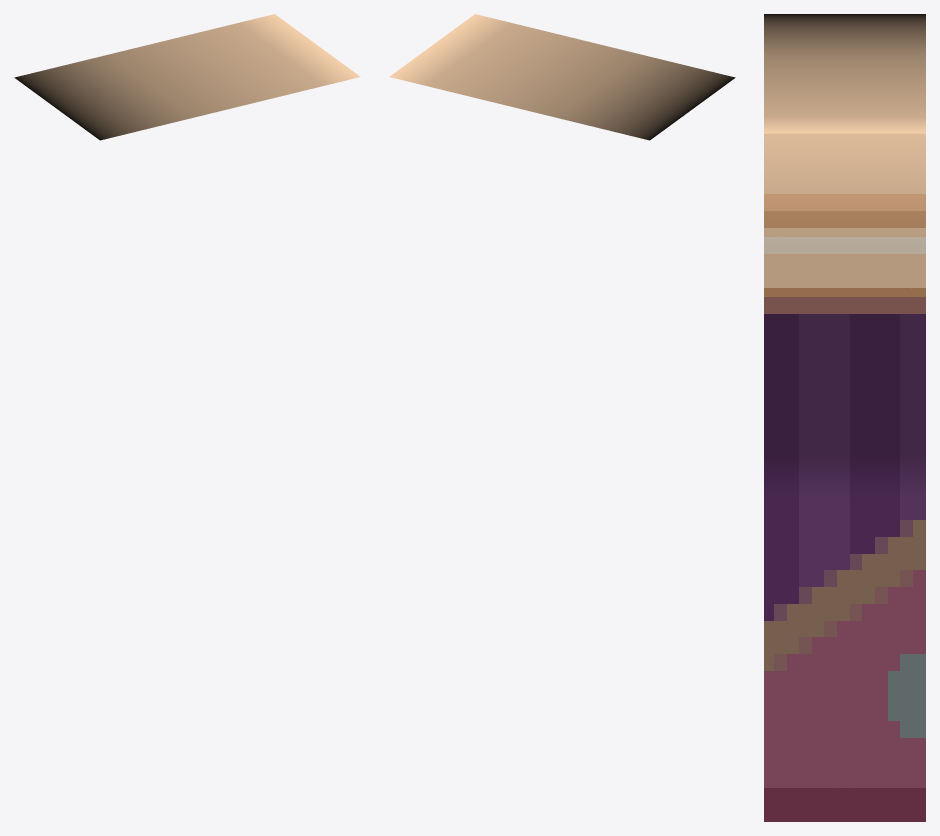
The picture shows the model from 3 angles, left to right: view 1: azimuth 30°, elevation 25°; view 2: azimuth 150°, elevation 25°; view 3: azimuth 270°, elevation 25°; orthographic projection. The views are drawn at different scales.
Size of the model in its own units: 1.75 by 4.75 by 1.
Materials: 3 (3 with a texture image).
